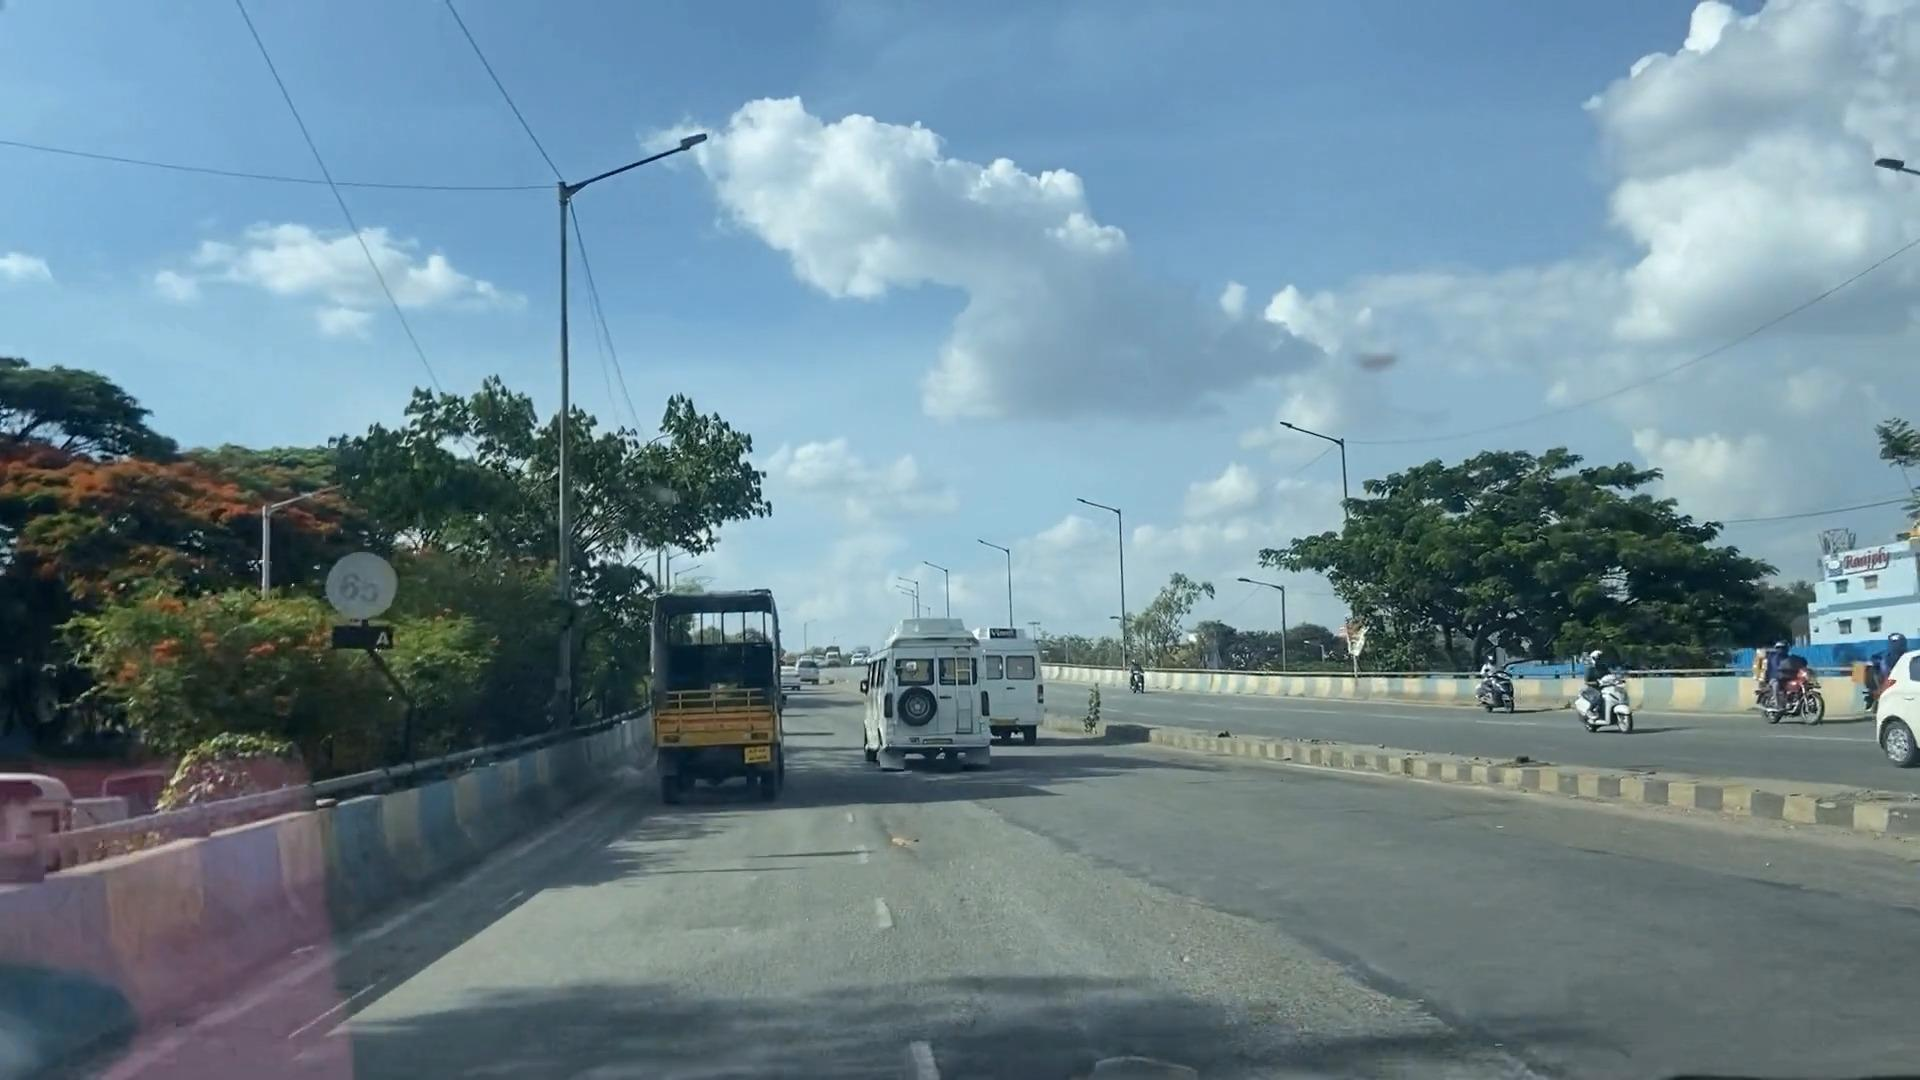HMV: (642, 578, 785, 773), (908, 582, 993, 770)
RoadDamages: (1094, 871, 1355, 1080), (1056, 1038, 1172, 1080), (878, 814, 932, 874)
